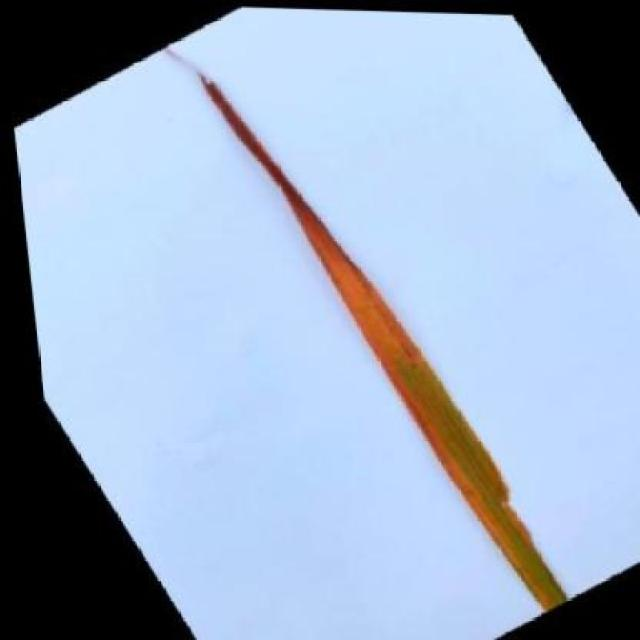Rice False Smut: (163, 20, 568, 618)
